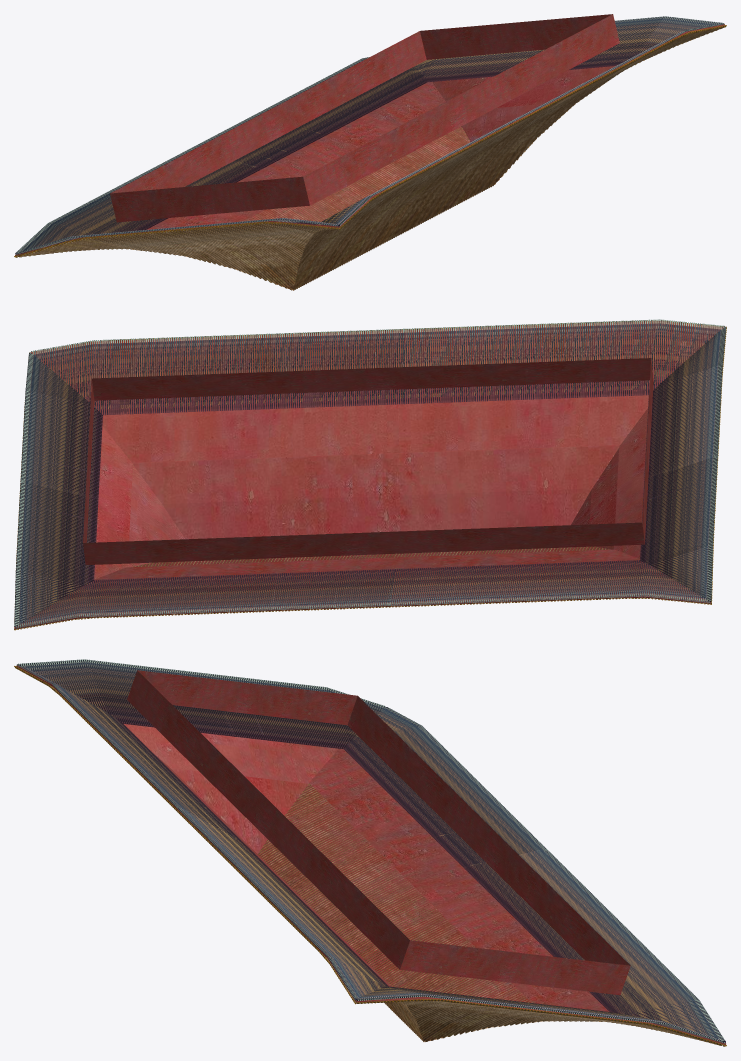
File: 上屋顶.obj
3 renders of one model, top to bottom at view 1: azimuth 30°, elevation 25°; view 2: azimuth 150°, elevation 25°; view 3: azimuth 270°, elevation 25°, orthographic. The views are drawn at different scales.
Parts seen in each view (by area): view 1: Obj3d66_17342430_33_561.001, Obj3d66_17342430_6_45, Obj3d66_17342430_16_935.001; view 2: Obj3d66_17342430_33_561.001, Obj3d66_17342430_16_935.001, Obj3d66_17342430_6_45; view 3: Obj3d66_17342430_33_561.001, Obj3d66_17342430_16_935.001, Obj3d66_17342430_6_45.
Boxes of the visible parts, x1,y1,x2,y2 form: Obj3d66_17342430_33_561.001: (15, 14, 724, 268); Obj3d66_17342430_6_45: (14, 25, 726, 290); Obj3d66_17342430_16_935.001: (15, 16, 724, 254); Obj3d66_17342430_33_561.001: (14, 321, 723, 628); Obj3d66_17342430_16_935.001: (14, 319, 726, 628); Obj3d66_17342430_6_45: (14, 320, 726, 630); Obj3d66_17342430_33_561.001: (16, 665, 725, 1044); Obj3d66_17342430_16_935.001: (17, 659, 725, 1043); Obj3d66_17342430_6_45: (14, 666, 726, 1046).
Bounding box in the file's own units: 1.61 × 0.4128 × 1.31.
5 materials, 5 textured.
